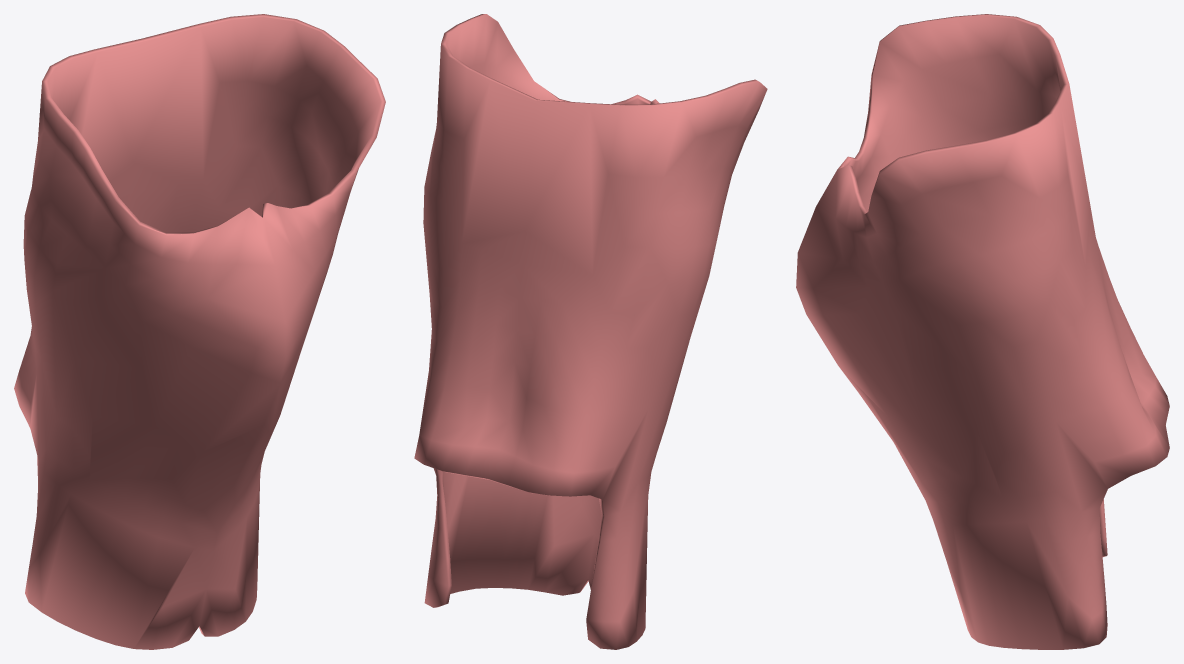
Rendered from visceras-laryngopharynx.glb.
The picture shows the model from 3 angles, left to right: view 1: azimuth 30°, elevation 25°; view 2: azimuth 150°, elevation 25°; view 3: azimuth 270°, elevation 25°; orthographic projection. The views are drawn at different scales.
Parts seen in each view (by area): view 1: Laryngopharynx; view 2: Laryngopharynx; view 3: Laryngopharynx.
Part boxes in pixels (<box>): Laryngopharynx: <box>14,14,385,649</box>; Laryngopharynx: <box>414,14,767,649</box>; Laryngopharynx: <box>796,14,1169,649</box>.
Size of the model in its own units: 0.0288 by 0.054 by 0.0336.
